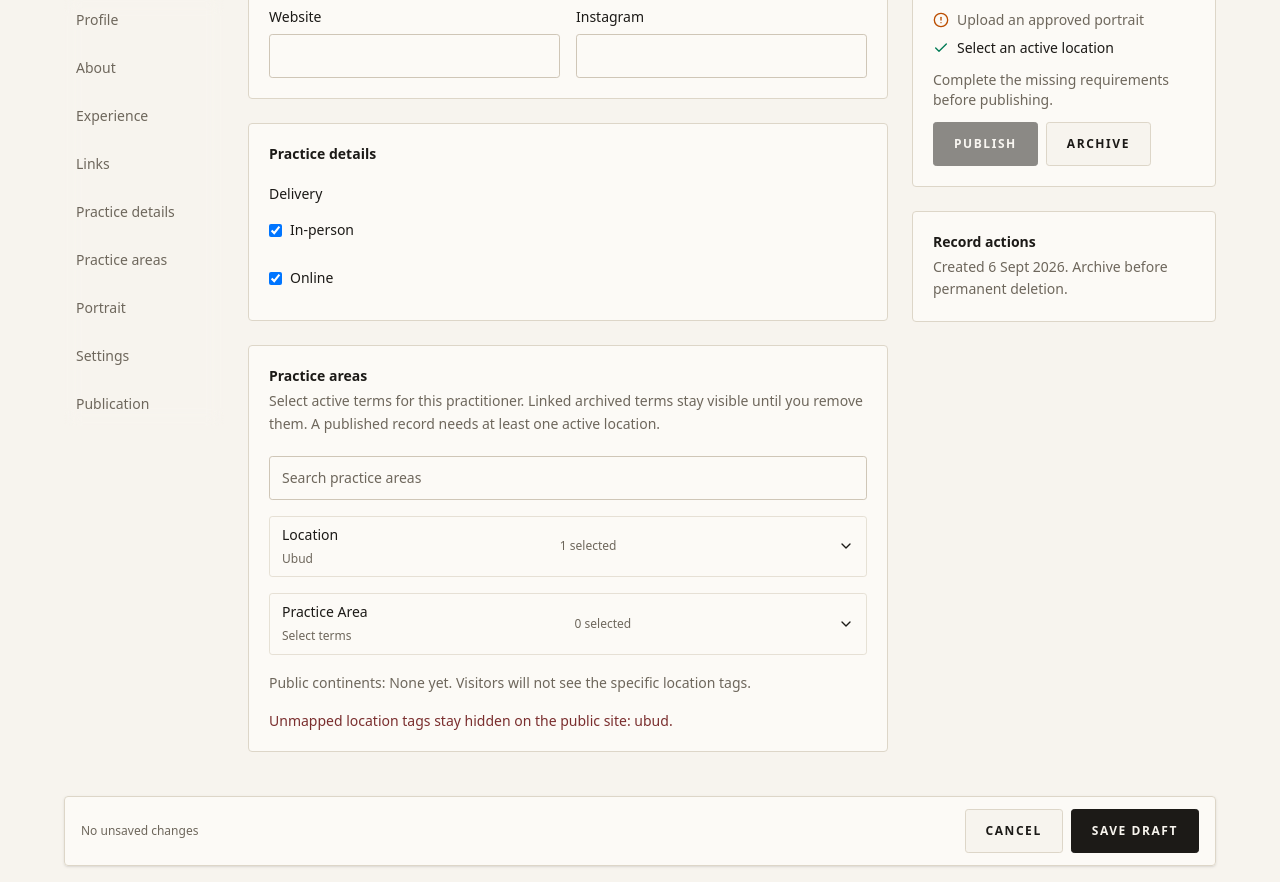
Test: practitioner draft workflow › keeps selected practice areas visible while searching
The width and height of the screenshot is (1280, 882).
(page scrolled)
Type "breath" into the search field labelled "Search practice areas" at [568, 478], box [269,456,867,500]
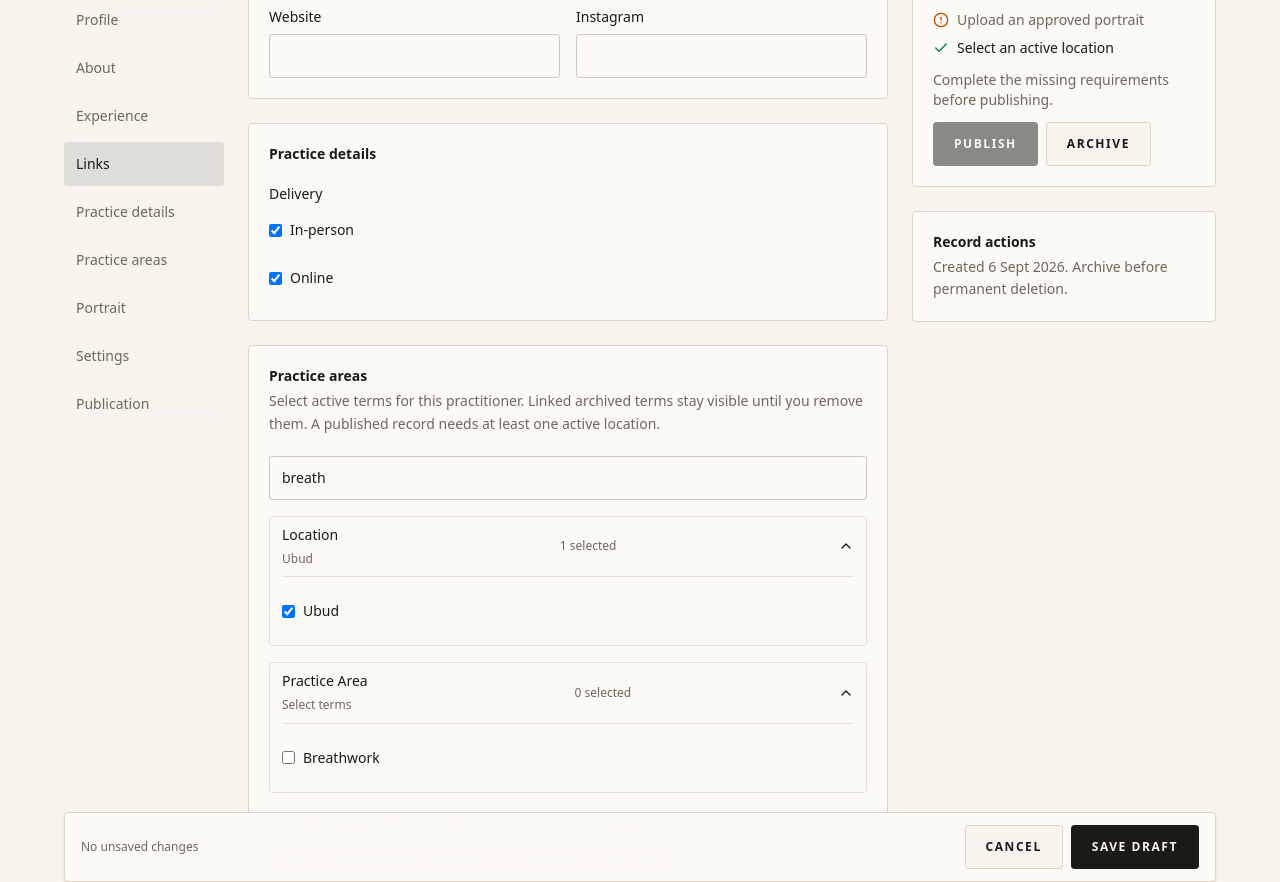
Expected: the 1st text "Ubud" is shown, [282,550,313,566]
Expected: the text "Breathwork" is shown, [303,748,380,768]
